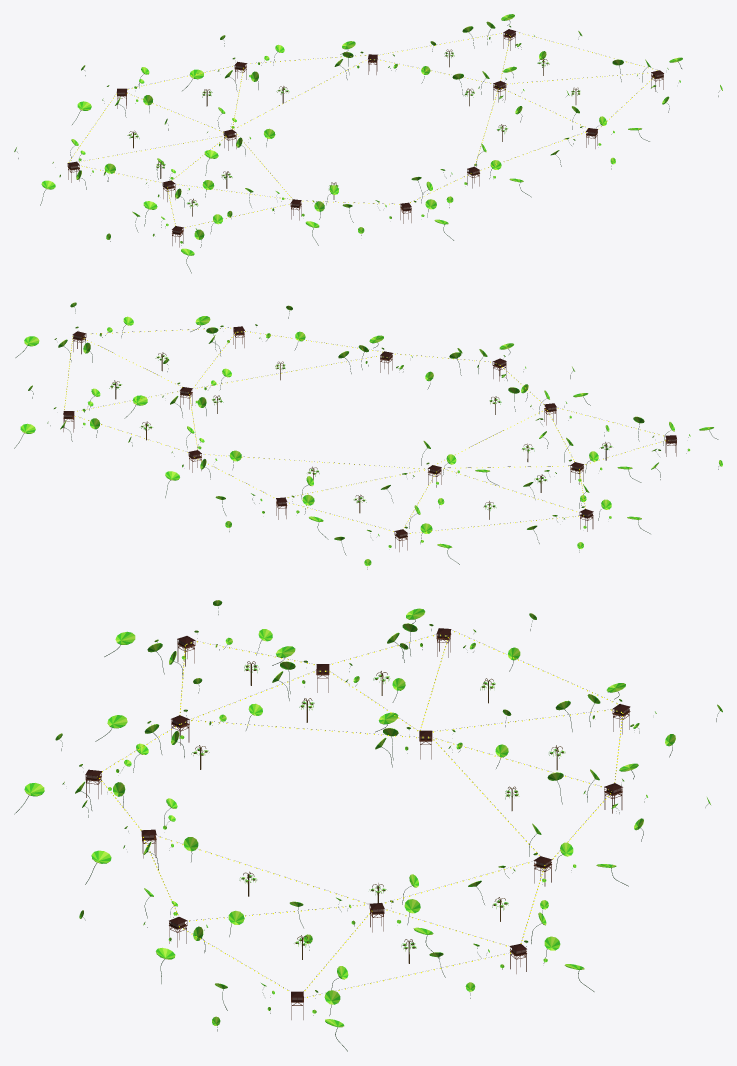
File: iqra.fbx
3 renders of one model, top to bottom at view 1: azimuth 30°, elevation 25°; view 2: azimuth 150°, elevation 25°; view 3: azimuth 270°, elevation 25°, orthographic. The views are drawn at different scales.
Size of the model in its own units: 31035 by 1367 by 21891.
